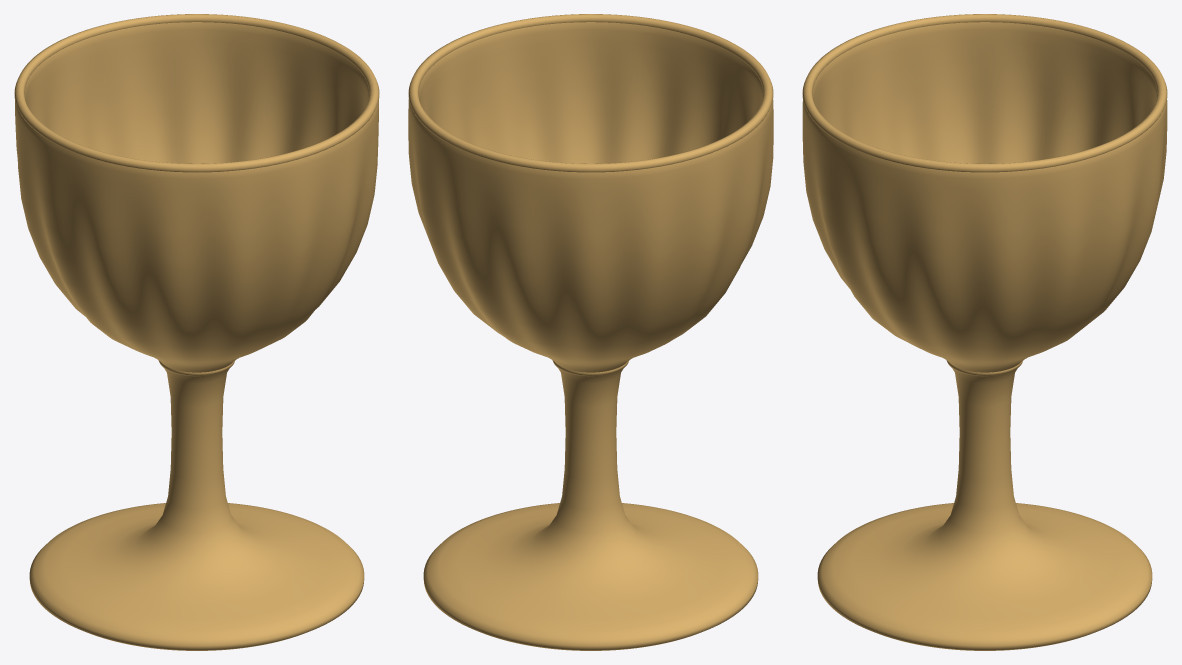
Rendered from goblet.glb.
3 renders of one model, left to right at view 1: azimuth 30°, elevation 25°; view 2: azimuth 150°, elevation 25°; view 3: azimuth 270°, elevation 25°, orthographic.
Visible parts, largest first — view 1: Fluted gold cup, Cup rim; view 2: Fluted gold cup, Cup rim; view 3: Fluted gold cup, Cup rim.
Part boxes in pixels (x1,y1,x2,y2): Fluted gold cup: (15, 22, 378, 650); Cup rim: (14, 14, 379, 172); Fluted gold cup: (408, 22, 773, 650); Cup rim: (408, 14, 773, 172); Fluted gold cup: (802, 22, 1167, 650); Cup rim: (802, 14, 1167, 172).
Bounding box in the file's own units: 0.634 × 0.96 × 0.634.
